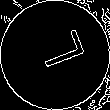L_W: (26, 31, 84, 79)
